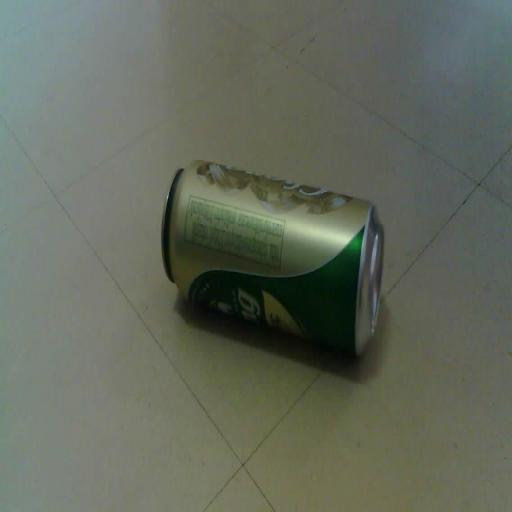canned: (145, 142, 398, 380)
